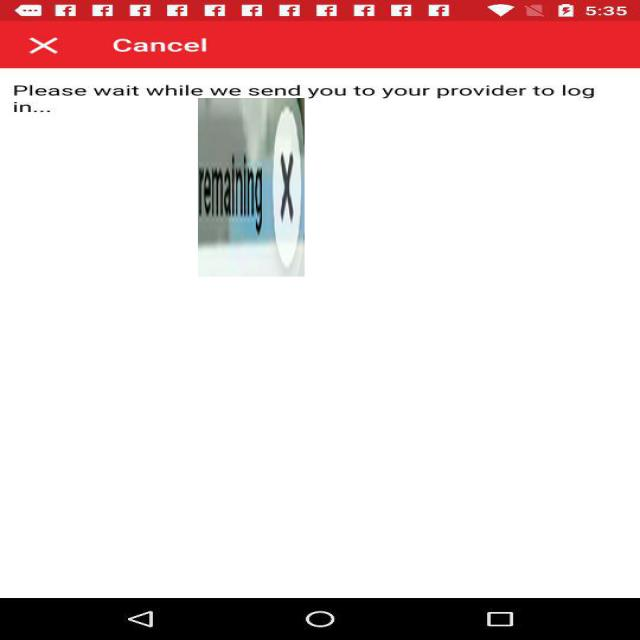misdirection: (198, 98, 305, 277)
